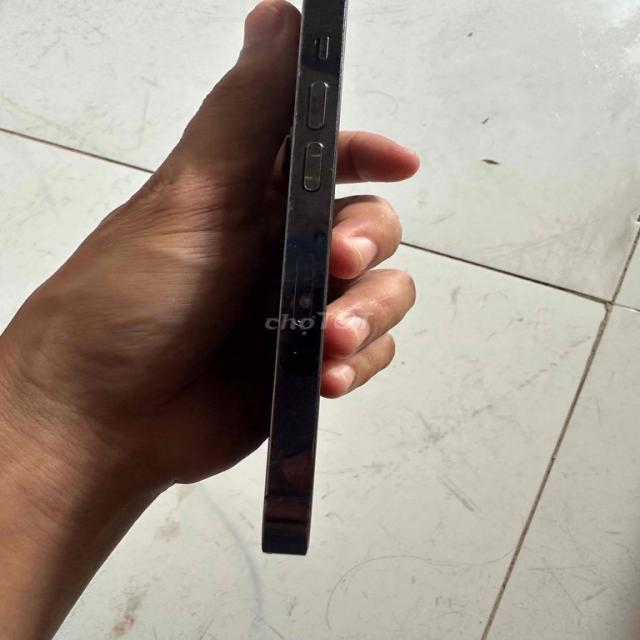scratch: (286, 31, 326, 200), (284, 306, 312, 355)
